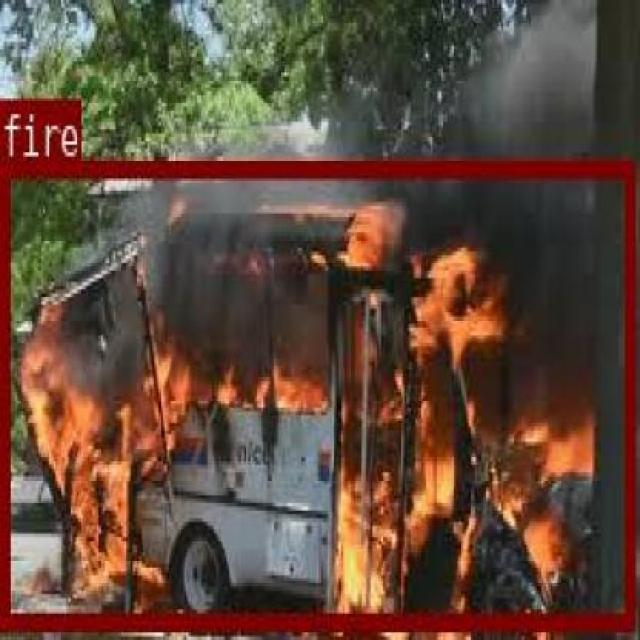Fire: (317, 394, 634, 469)
